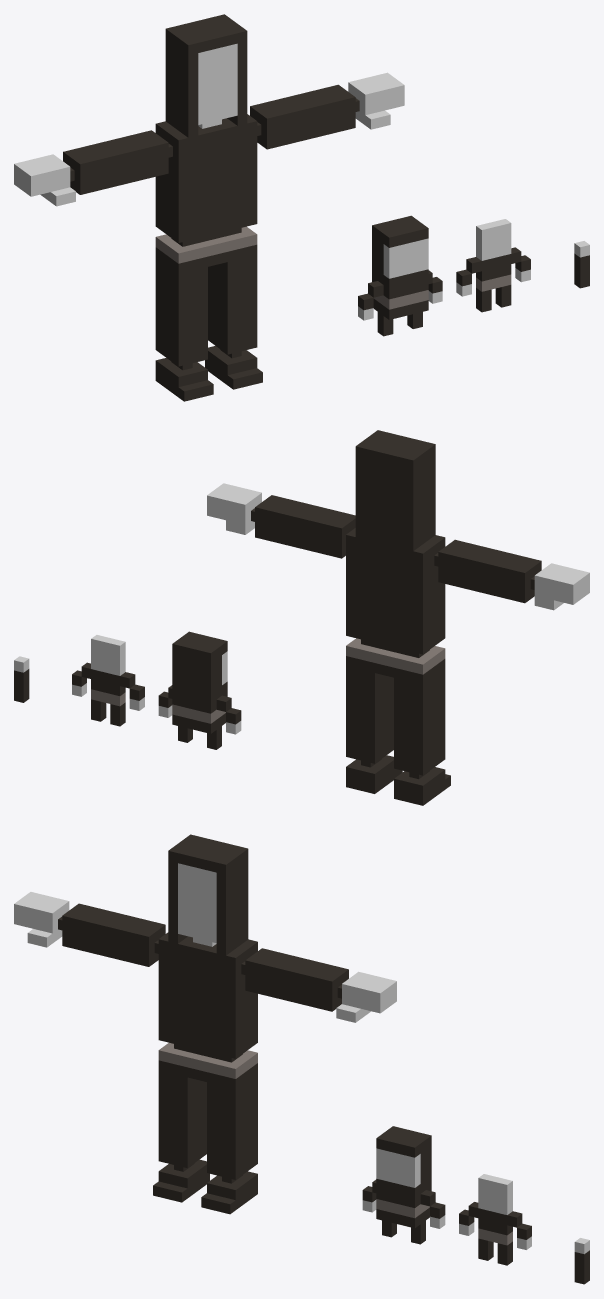
Rendered from Enemies_Fade.glb.
3 views of the same model, one above another, from view 1: azimuth 30°, elevation 25°; view 2: azimuth 150°, elevation 25°; view 3: azimuth 330°, elevation 25° (orthographic).
Visible parts, largest first — view 1: pl0; view 2: pl0; view 3: pl0.
Boxes of the visible parts, x1,y1,x2,y2 form: pl0: (14, 14, 589, 401); pl0: (14, 430, 589, 805); pl0: (14, 834, 589, 1284).
Bounding box in the file's own units: 58 × 34 × 5.
Materials: 1 (1 with a texture image).
